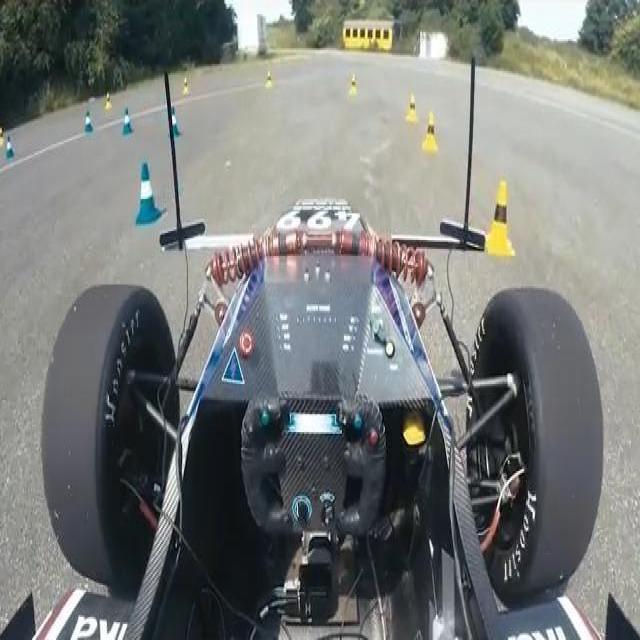blue_cone: (135, 162, 162, 226), (168, 106, 182, 138), (122, 106, 134, 136), (83, 108, 93, 134), (5, 135, 14, 160)
yellow_cone: (483, 180, 517, 256), (421, 110, 439, 152), (405, 94, 420, 123)
